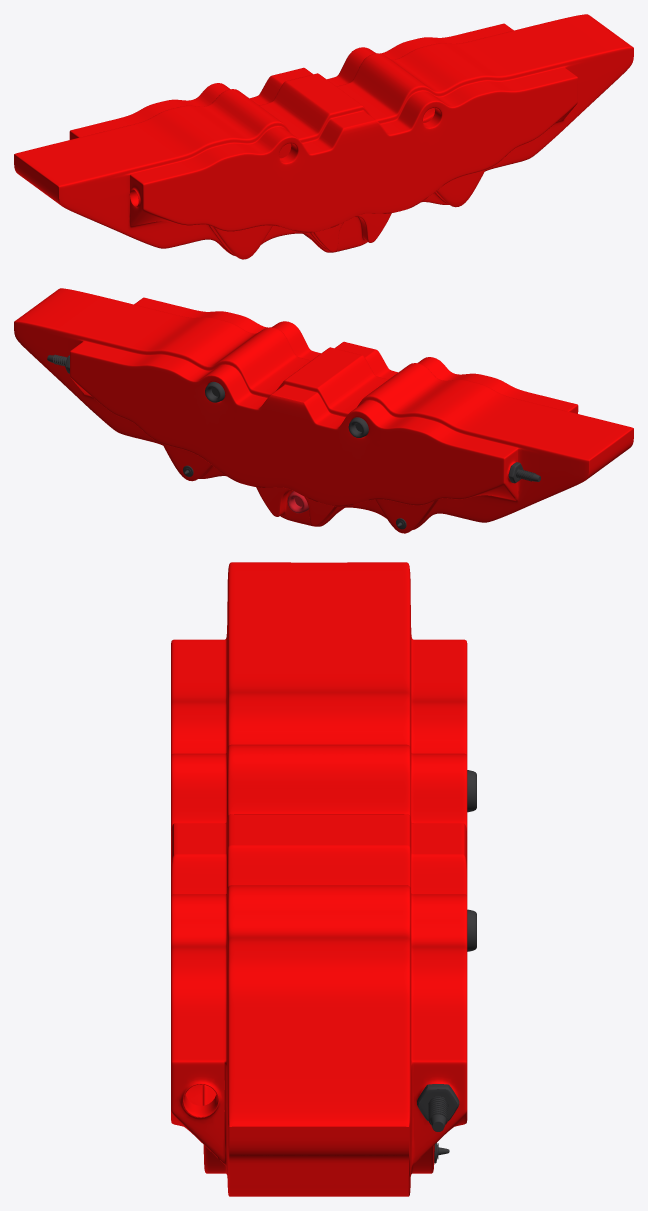
Rendered from sport-6p.glb.
3 views of the same model, one above another, from view 1: azimuth 30°, elevation 25°; view 2: azimuth 150°, elevation 25°; view 3: azimuth 270°, elevation 25° (orthographic). The views are drawn at different scales.
Visible parts, largest first — view 1: RealCaliper; view 2: RealCaliper; view 3: RealCaliper.
Boxes of the visible parts, x1,y1,x2,y2 form: RealCaliper: [14, 14, 633, 259]; RealCaliper: [14, 288, 633, 533]; RealCaliper: [171, 562, 476, 1196].
Size of the model in its own units: 0.288 by 0.0695 by 0.0663.
